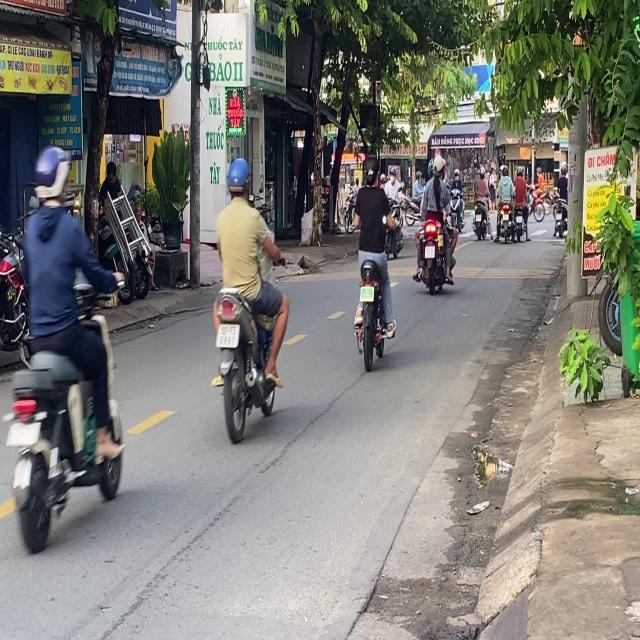helmet: (31, 144, 70, 208), (225, 156, 251, 200)
licenseplate: (1, 142, 125, 551), (209, 154, 289, 440), (350, 152, 397, 368)
motorcyclist: (362, 155, 380, 185)
nohelmet: (7, 421, 39, 447), (216, 324, 239, 347), (360, 286, 374, 302)
